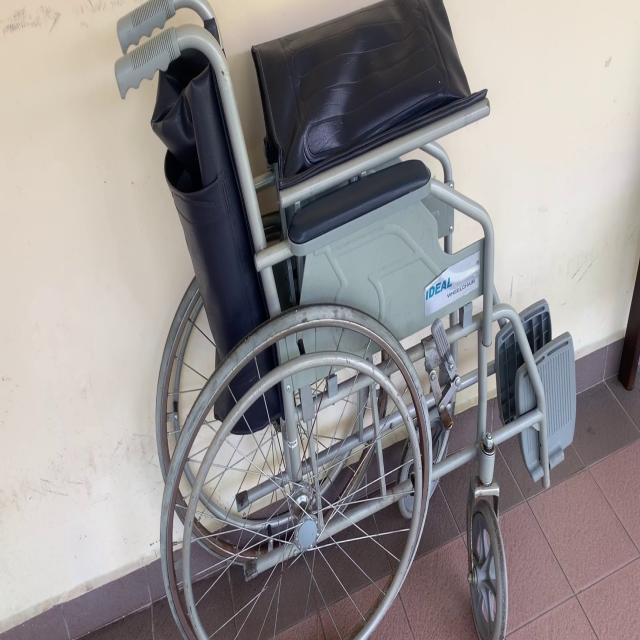wheelchair: (111, 0, 606, 640)
